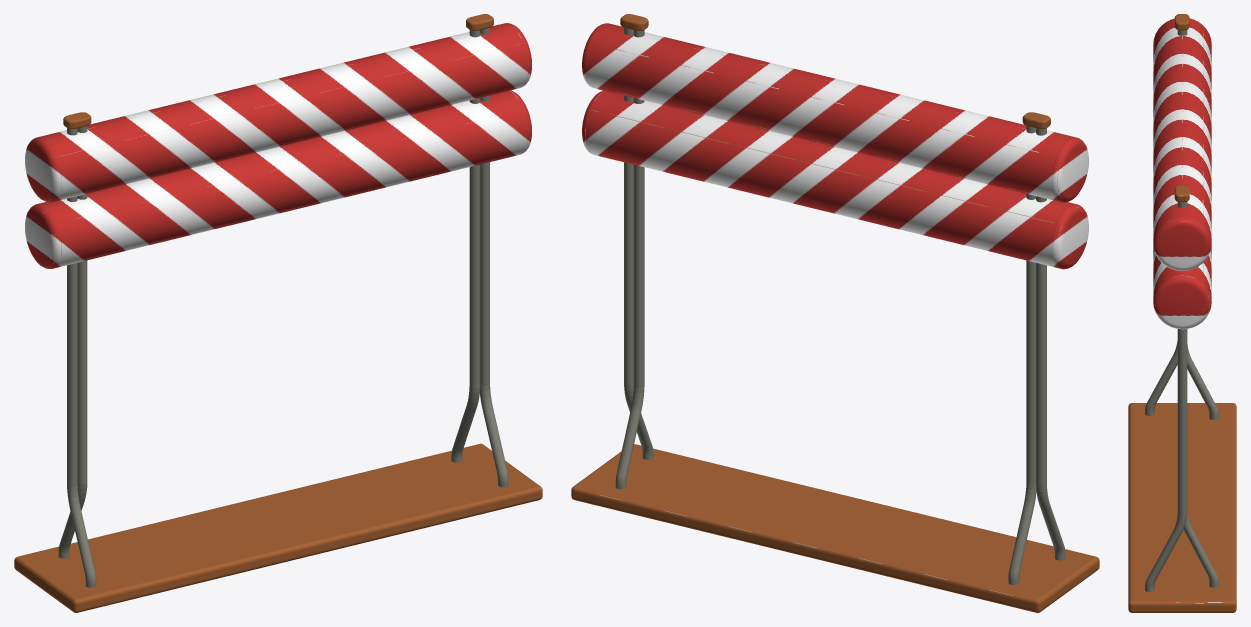
Rendered from Blocade.fbx.
The picture shows the model from 3 angles, left to right: view 1: azimuth 30°, elevation 25°; view 2: azimuth 150°, elevation 25°; view 3: azimuth 270°, elevation 25°; orthographic projection. The views are drawn at different scales.
Parts seen in each view (by area): view 1: Cube.003; view 2: Cube.003; view 3: Cube.003.
Part boxes in pixels (x1=…): Cube.003: x1=14, y1=14, x2=542, y2=612; Cube.003: x1=571, y1=14, x2=1099, y2=612; Cube.003: x1=1128, y1=14, x2=1236, y2=612.
Size of the model in its own units: 662 by 617 by 148.
Materials: 1 (1 with a texture image).
